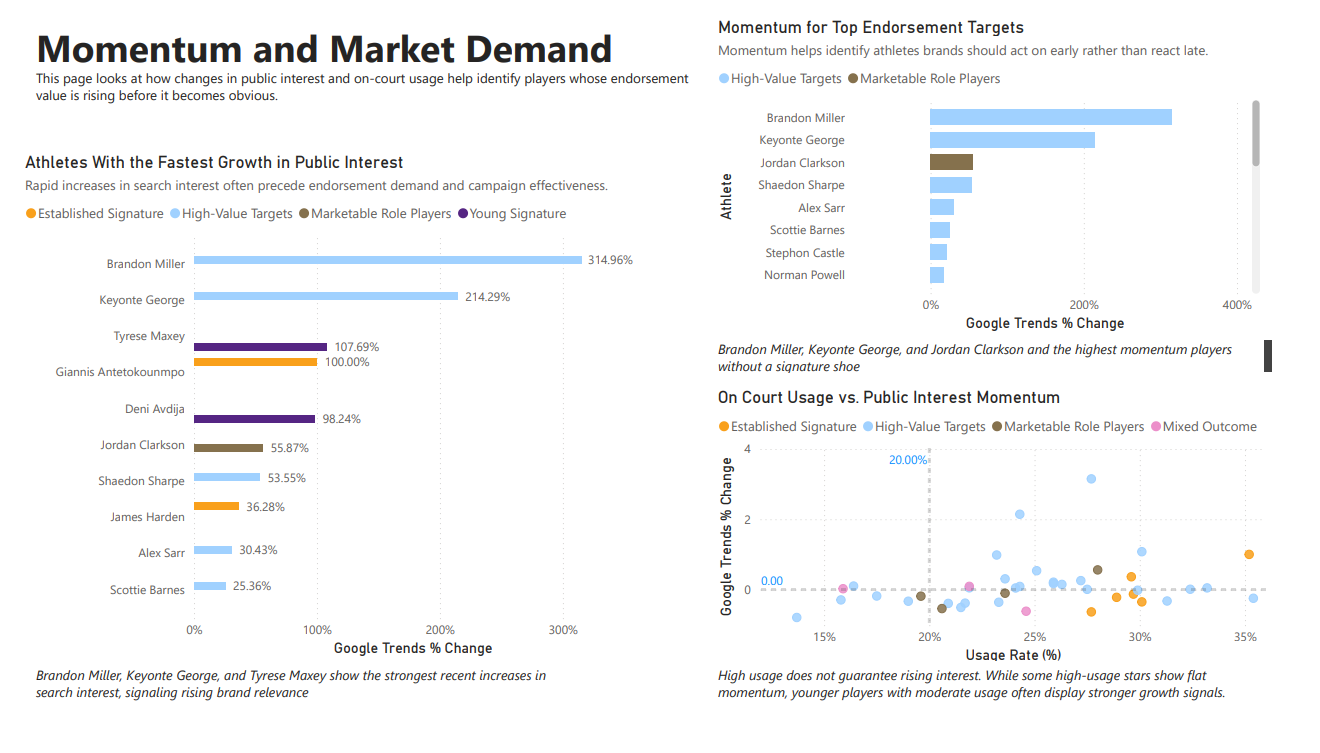

This screenshot's page, from the dashboard's own definition file:
{"tool":"powerbi","page":{"name":"Momentum and Market Demand","canvas":[1280,720],"ordinal":2},"visuals":[{"type":"textbox","box":[10.7,0,1269.3,88.5],"z":0},{"type":"clusteredBarChart","title":"Athletes With the Fastest Growth in Public Interest","fields":{"Category":["google_trends_momentum_top10.athlete"],"Y":["google_trends_momentum_top10.google_trends_pct_change"],"Series":["bucket_summary.bucket"]},"box":[0,135.2,633.2,508.7],"z":1000},{"type":"scatterChart","title":"On Court Usage vs. Public Interest Momentum","fields":{"X":["hype_vs_performance_scatter.x_usage"],"Y":["hype_vs_performance_scatter.y_trends_change"],"Category":["hype_vs_performance_scatter.athlete"],"Series":["final_table_by_endorsement_score.bucket"]},"box":[693.5,369.6,570,281.1],"z":2000},{"type":"barChart","title":"Momentum for Top Endorsement Targets","fields":{"Category":["top_endorsement_targets_momentum.athlete"],"Y":["top_endorsement_targets_momentum.google_trends_pct_change"],"Series":["final_table_by_endorsement_score.bucket"]},"box":[693.5,0,551.5,319],"z":3000},{"type":"textbox","box":[693.5,318.1,563.2,42.8],"z":4000},{"type":"textbox","box":[693.5,643.9,551.5,62.2],"z":5000},{"type":"textbox","box":[10.7,643.9,535,62.2],"z":6000},{"type":"textbox","box":[10.7,46.7,667.2,88.5],"z":7000}]}

Visuals, with their boxes in screenshot pixels (x1, y1, x2, y2), scaled from the page's 1280x720 canvas onto the 1320x753 screenshot:
textbox: {"left": 11, "top": 0, "right": 1319, "bottom": 93}
"Athletes With the Fastest Growth in Public Interest" clusteredBarChart: {"left": 0, "top": 141, "right": 653, "bottom": 673}
"On Court Usage vs. Public Interest Momentum" scatterChart: {"left": 715, "top": 387, "right": 1303, "bottom": 681}
"Momentum for Top Endorsement Targets" barChart: {"left": 715, "top": 0, "right": 1284, "bottom": 334}
textbox: {"left": 715, "top": 333, "right": 1296, "bottom": 377}
textbox: {"left": 715, "top": 673, "right": 1284, "bottom": 738}
textbox: {"left": 11, "top": 673, "right": 563, "bottom": 738}
textbox: {"left": 11, "top": 49, "right": 699, "bottom": 141}
